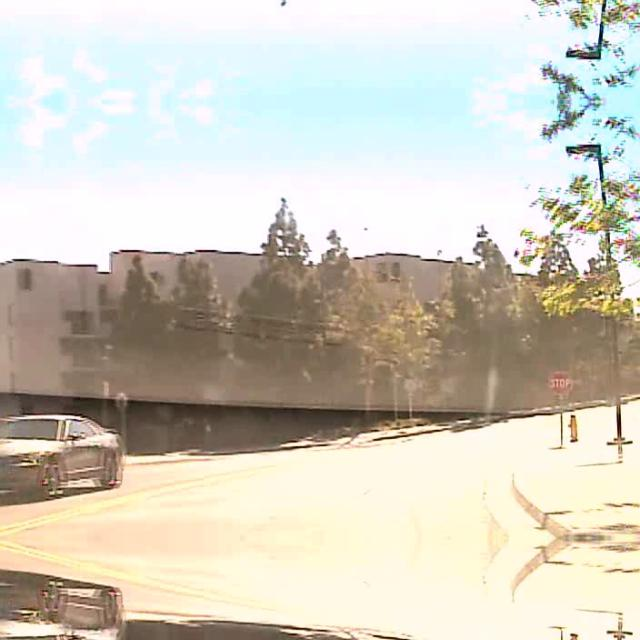stop: (548, 370, 572, 392)
